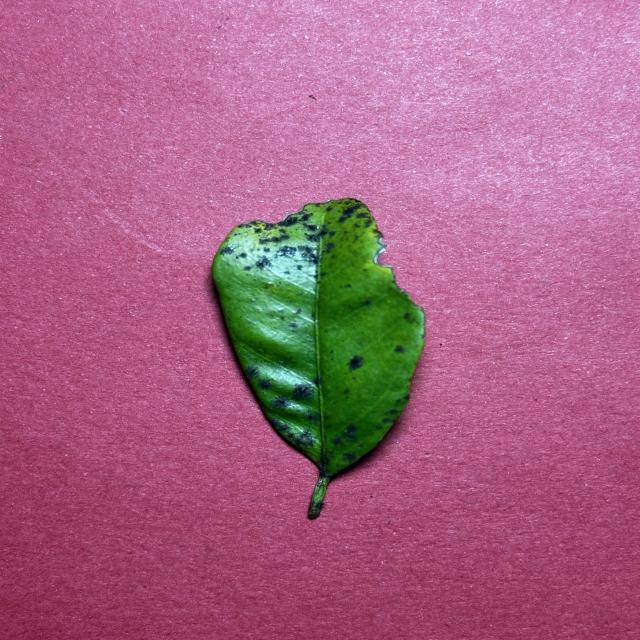sooty_mold: (213, 199, 424, 518)
